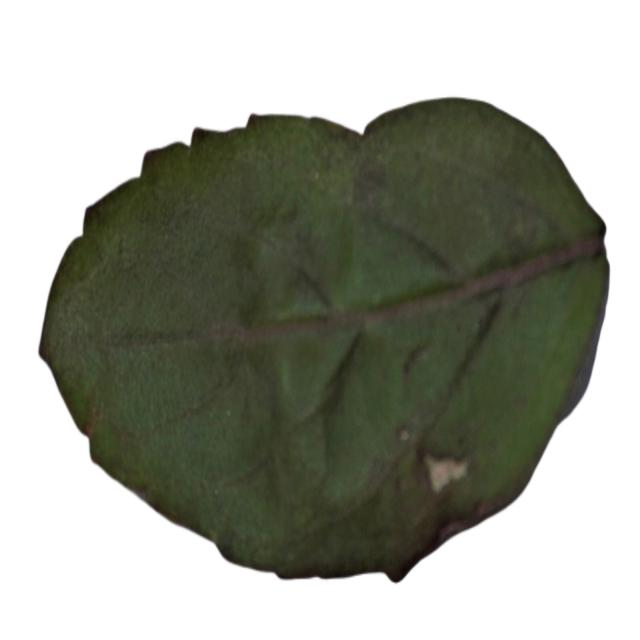tulsi: (32, 86, 612, 589)
